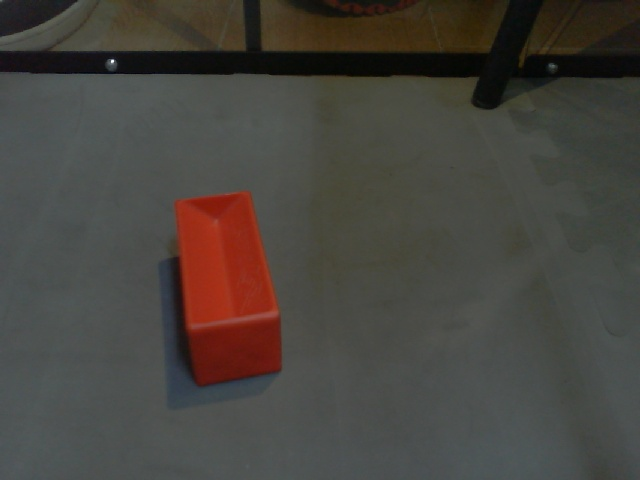RedSample: (168, 186, 284, 397)
